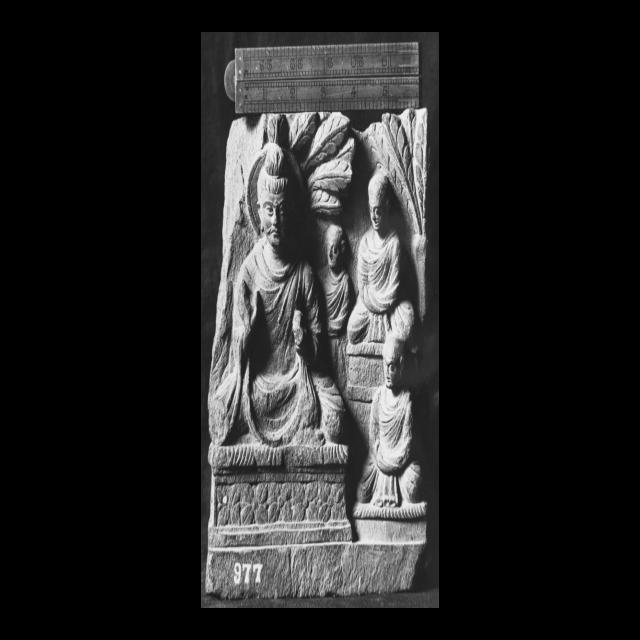buddha-sitting: (209, 144, 351, 538), (352, 333, 427, 542)
